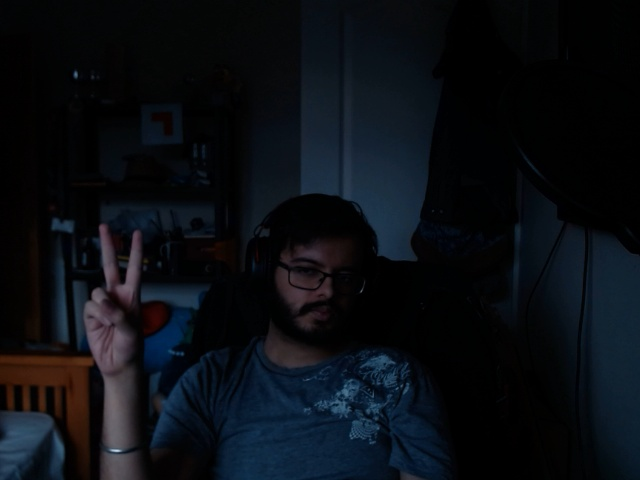Peace: (78, 213, 159, 389)
